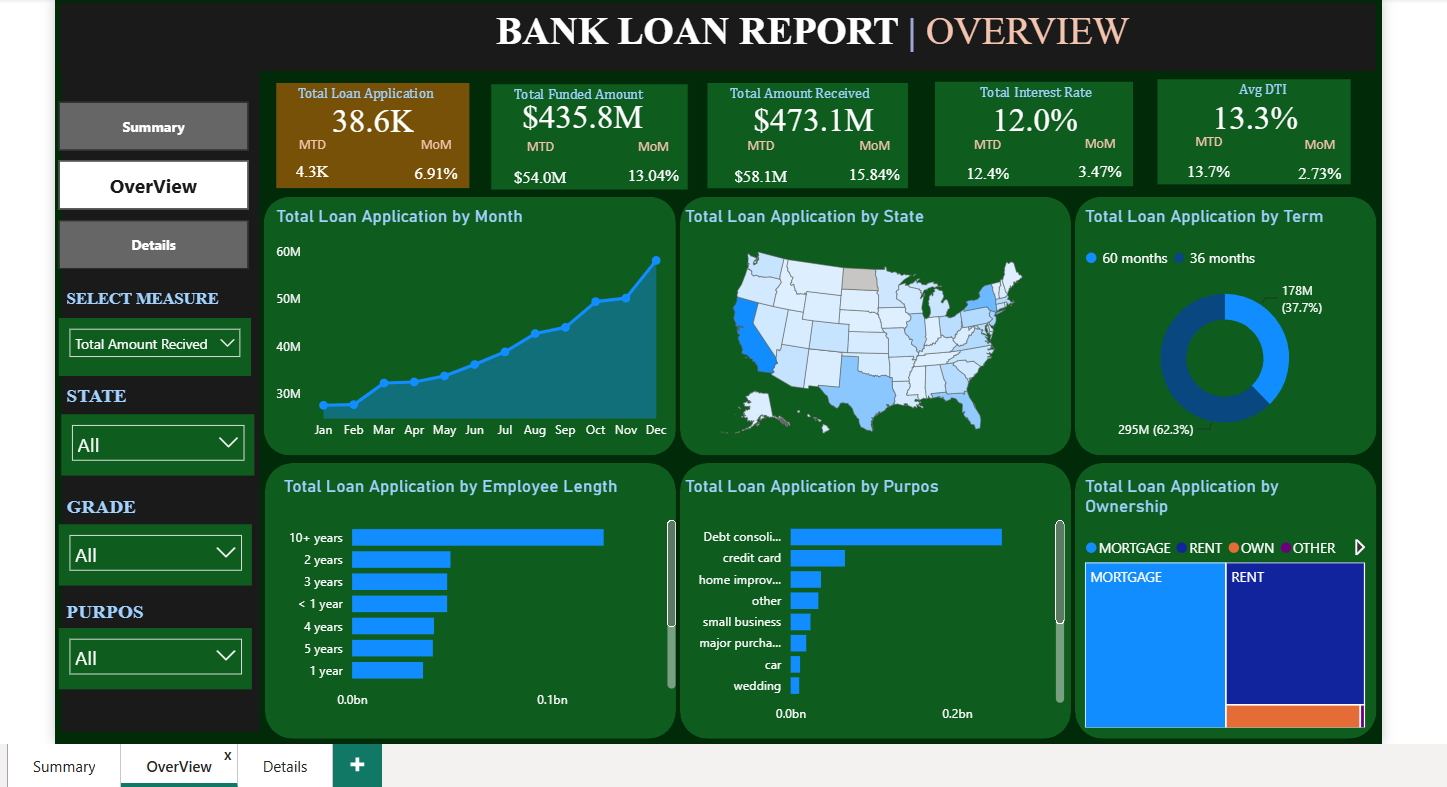

This screenshot's page, from the dashboard's own definition file:
{"tool":"powerbi","page":{"name":"OverView","canvas":[1280,720],"ordinal":1},"visuals":[{"type":"shape","box":[201.7,192.1,397.9,249.7],"z":0},{"type":"shape","box":[5.5,70,191.4,638.6],"z":1000},{"type":"shape","box":[4.3,4.3,1270,65.7],"z":2000},{"type":"textbox","box":[412.9,4.3,637.1,75.7],"z":3000},{"type":"shape","box":[848.9,79.8,191.1,100.8],"z":3000,"group":"g4"},{"type":"shape","box":[212.5,81.1,186.5,101.4],"z":3000,"group":"g1"},{"type":"shape","box":[630.5,81.1,193.4,102],"z":3000,"group":"g3"},{"type":"shape","box":[420.8,82.5,189.6,102],"z":3000,"group":"g2"},{"type":"group","id":"g1","title":"Group 1","box":[202.1,76.8,225,119.4],"z":4000},{"type":"shape","box":[1063.8,78.4,186.6,101.4],"z":4000,"group":"g5"},{"type":"cardVisual","fields":{"Data":["banking_loan banking_loan.Total Funded Amount"]},"box":[410.3,79.2,198.2,67.6],"z":4000,"group":"g2"},{"type":"cardVisual","fields":{"Data":["banking_loan banking_loan.Total Loan Application"]},"box":[227.5,81.1,158.2,70],"z":4000,"group":"g1"},{"type":"cardVisual","fields":{"Data":["banking_loan banking_loan.Average Interest Rate"]},"box":[848.5,82.4,193.9,66.8],"z":4000,"group":"g4"},{"type":"cardVisual","fields":{"Data":["Date Table.Total Amount Recived"]},"box":[636.7,83,193.2,67.6],"z":4000,"group":"g3"},{"type":"textbox","box":[865.7,75.5,160.5,34.1],"z":5000,"group":"g4"},{"type":"textbox","box":[229,76.8,156.7,34.3],"z":5000,"group":"g1"},{"type":"textbox","box":[647.5,76.8,162.5,34.5],"z":5000,"group":"g3"},{"type":"group","id":"g2","title":"Group 1","box":[410.3,78.2,229.2,123.5],"z":5000},{"type":"textbox","box":[437.4,78.2,159.3,34.5],"z":5000,"group":"g2"},{"type":"group","id":"g3","title":"Group 1","box":[623,76.8,230.5,123.5],"z":6000},{"type":"cardVisual","fields":{"Data":["banking_loan banking_loan.Avg DTI"]},"box":[1063.5,81,189.3,67.2],"z":6000,"group":"g5"},{"type":"cardVisual","title":"MTD","fields":{"Data":["banking_loan banking_loan.MTD Avg Int Ratet"]},"box":[841.5,132.1,116,65.5],"z":6000,"group":"g4"},{"type":"cardVisual","title":"MTD","fields":{"Data":["banking_loan banking_loan.MTD Loan Application"]},"box":[202.1,132.5,91,60],"z":6000,"group":"g1"},{"type":"cardVisual","title":"MTD","fields":{"Data":["banking_loan banking_loan.MTD Total Amount Recived"]},"box":[623,134.1,117.4,66.2],"z":6000,"group":"g3"},{"type":"cardVisual","title":"MTD","fields":{"Data":["banking_loan banking_loan.MTD Funded Amount"]},"box":[410.3,135.5,116.6,66.2],"z":6000,"group":"g2"},{"type":"group","id":"g4","title":"Group 1","box":[841.5,75.5,227.8,122.1],"z":7000},{"type":"cardVisual","title":"MoM","fields":{"Data":["banking_loan banking_loan.MoM Avg Int Rate"]},"box":[945.9,131.2,123.4,62.7],"z":7000,"group":"g4"},{"type":"cardVisual","title":"MoM","fields":{"Data":["banking_loan banking_loan.MoM Loan Application"]},"box":[307.3,132.8,120.4,63.1],"z":7000,"group":"g1"},{"type":"cardVisual","title":"MoM","fields":{"Data":["banking_loan banking_loan.MoM Total Amount Recived"]},"box":[728.7,133.1,124.9,63.5],"z":7000,"group":"g3"},{"type":"cardVisual","title":"MoM","fields":{"Data":["banking_loan banking_loan.MoM Total Funded Amount"]},"box":[517.1,134.5,122.4,63.5],"z":7000,"group":"g2"},{"type":"group","id":"g5","title":"Group 2","box":[1056.6,74.1,223.7,123.5],"z":8000},{"type":"textbox","box":[1080.2,74.1,156.7,34.3],"z":8000,"group":"g5"},{"type":"slicer","fields":{"Values":["banking_loan banking_loan.grade"]},"box":[4.1,507.7,186.6,59],"z":9000},{"type":"cardVisual","title":"MTD","fields":{"Data":["banking_loan banking_loan.MTD Avg DTI"]},"box":[1056.6,131.1,113.3,65.9],"z":10000,"group":"g5"},{"type":"slicer","fields":{"Values":["banking_loan banking_loan.purpose"]},"box":[4.1,607.9,186.6,59],"z":10000},{"type":"cardVisual","title":"MoM","fields":{"Data":["banking_loan banking_loan.MoM Avg DIT"]},"box":[1159.8,133.1,120.4,63.1],"z":11000,"group":"g5"},{"type":"textbox","box":[5.5,367.8,126.2,42.5],"z":11000},{"type":"textbox","box":[5.5,576.3,126.2,42.5],"z":12000},{"type":"slicer","fields":{"Values":["banking_loan banking_loan.address_state"]},"box":[5.5,402.1,186.6,59],"z":13000},{"type":"textbox","box":[5.5,474.8,126.2,42.5],"z":14000},{"type":"shape","box":[203.1,448.7,396.6,266.2],"z":15000},{"type":"slicer","fields":{"Values":["Select Measure.Select Measure"]},"box":[4.1,308.7,185.2,56.3],"z":16000},{"type":"shape","box":[983.9,192.1,290.9,249.7],"z":17000},{"type":"shape","box":[603.8,192.1,377.4,249.7],"z":18000},{"type":"textbox","box":[5.5,275.8,196.2,42.5],"z":19000},{"type":"areaChart","title":"Total Loan Application by Month","fields":{"Y":["banking_loan banking_loan.Total Amount Recived"],"Category":["Date Table.Month"]},"box":[208.6,200.3,388.3,234.6],"z":20000},{"type":"shapeMap","title":"Total Loan Application by State","fields":{"Value":["banking_loan banking_loan.Total Amount Recived"],"Category":["banking_loan banking_loan.address_state"]},"box":[603.8,200.3,370.5,234.6],"z":21000},{"type":"donutChart","title":"Total Loan Application by Term","fields":{"Y":["banking_loan banking_loan.Total Amount Recived"],"Category":["banking_loan banking_loan.term"]},"box":[989.4,200.3,279.9,234.6],"z":22000},{"type":"barChart","title":"Total Loan Application by Employee Length","fields":{"Y":["banking_loan banking_loan.Total Amount Recived"],"Category":["banking_loan banking_loan.emp_length"]},"box":[215.4,461.1,388.3,234.6],"z":23000},{"type":"shape","box":[603.8,448.7,377.4,266.2],"z":24000},{"type":"barChart","title":"Total Loan Application by Purpos","fields":{"Y":["banking_loan banking_loan.Total Amount Recived"],"Category":["banking_loan banking_loan.purpose"]},"box":[603.8,461.1,376,248.4],"z":25000},{"type":"shape","box":[983.9,448.7,290.9,266.2],"z":26000},{"type":"treemap","title":"Total Loan Application by Ownership","fields":{"Values":["banking_loan banking_loan.Total Amount Recived"],"Group":["banking_loan banking_loan.home_ownership"]},"box":[989.4,461.1,279.9,248.4],"z":27000},{"type":"pageNavigator","box":[4.1,100.2,183.9,163.3],"z":28000}]}

Visuals, with their boxes on the page's 1280x720 design canvas (x1, y1, x2, y2). These are canvas units, not pixel positions in the 1447x787 screenshot, which may show the page scaled, cropped or inside an application window:
shape: locate(202, 192, 600, 442)
shape: locate(6, 70, 197, 709)
shape: locate(4, 4, 1274, 70)
textbox: locate(413, 4, 1050, 80)
shape: locate(849, 80, 1040, 181)
shape: locate(212, 81, 399, 182)
shape: locate(630, 81, 824, 183)
shape: locate(421, 82, 610, 184)
"Group 1" group: locate(202, 77, 427, 196)
shape: locate(1064, 78, 1250, 180)
cardVisual - banking_loan banking_loan.Total Funded Amount: locate(410, 79, 608, 147)
cardVisual - banking_loan banking_loan.Total Loan Application: locate(228, 81, 386, 151)
cardVisual - banking_loan banking_loan.Average Interest Rate: locate(848, 82, 1042, 149)
cardVisual - Date Table.Total Amount Recived: locate(637, 83, 830, 151)
textbox: locate(866, 76, 1026, 110)
textbox: locate(229, 77, 386, 111)
textbox: locate(648, 77, 810, 111)
"Group 1" group: locate(410, 78, 640, 202)
textbox: locate(437, 78, 597, 113)
"Group 1" group: locate(623, 77, 854, 200)
cardVisual - banking_loan banking_loan.Avg DTI: locate(1064, 81, 1253, 148)
"MTD" cardVisual: locate(842, 132, 958, 198)
"MTD" cardVisual: locate(202, 132, 293, 192)
"MTD" cardVisual: locate(623, 134, 740, 200)
"MTD" cardVisual: locate(410, 136, 527, 202)
"Group 1" group: locate(842, 76, 1069, 198)
"MoM" cardVisual: locate(946, 131, 1069, 194)
"MoM" cardVisual: locate(307, 133, 428, 196)
"MoM" cardVisual: locate(729, 133, 854, 197)
"MoM" cardVisual: locate(517, 134, 640, 198)
"Group 2" group: locate(1057, 74, 1280, 198)
textbox: locate(1080, 74, 1237, 108)
slicer - banking_loan banking_loan.grade: locate(4, 508, 191, 567)
"MTD" cardVisual: locate(1057, 131, 1170, 197)
slicer - banking_loan banking_loan.purpose: locate(4, 608, 191, 667)
"MoM" cardVisual: locate(1160, 133, 1280, 196)
textbox: locate(6, 368, 132, 410)
textbox: locate(6, 576, 132, 619)
slicer - banking_loan banking_loan.address_state: locate(6, 402, 192, 461)
textbox: locate(6, 475, 132, 517)
shape: locate(203, 449, 600, 715)
slicer - Select Measure.Select Measure: locate(4, 309, 189, 365)
shape: locate(984, 192, 1275, 442)
shape: locate(604, 192, 981, 442)
textbox: locate(6, 276, 202, 318)
"Total Loan Application by Month" areaChart: locate(209, 200, 597, 435)
"Total Loan Application by State" shapeMap: locate(604, 200, 974, 435)
"Total Loan Application by Term" donutChart: locate(989, 200, 1269, 435)
"Total Loan Application by Employee Length" barChart: locate(215, 461, 604, 696)
shape: locate(604, 449, 981, 715)
"Total Loan Application by Purpos" barChart: locate(604, 461, 980, 710)
shape: locate(984, 449, 1275, 715)
"Total Loan Application by Ownership" treemap: locate(989, 461, 1269, 710)
pageNavigator: locate(4, 100, 188, 264)
